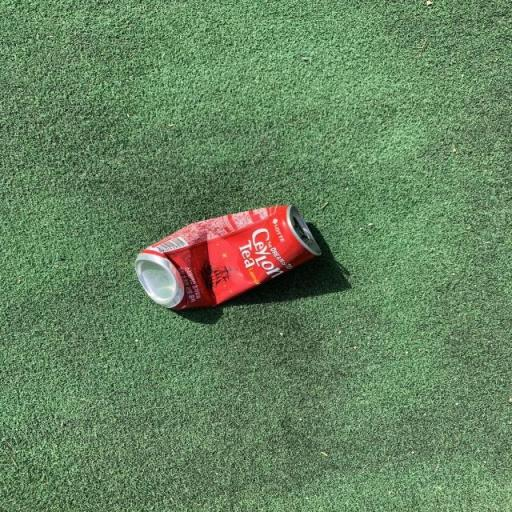metal: (115, 195, 350, 328)
